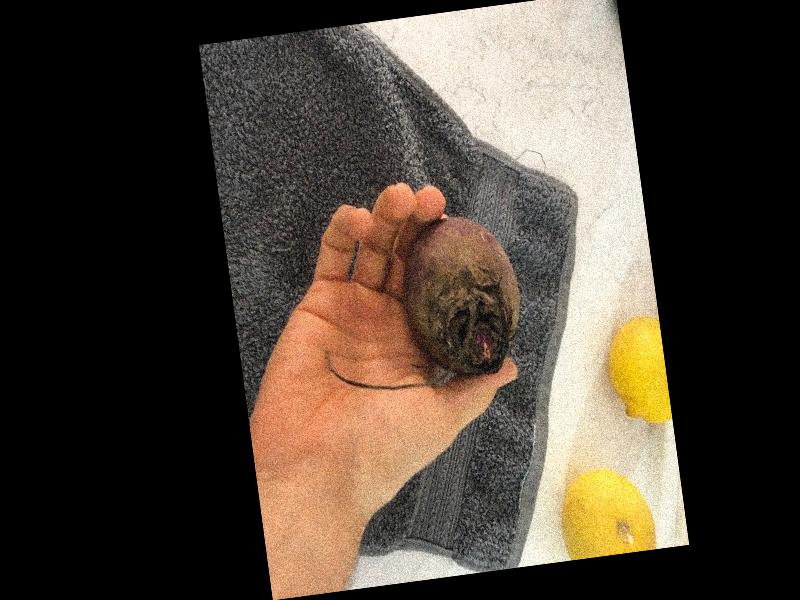Beet: (309, 207, 529, 394)
